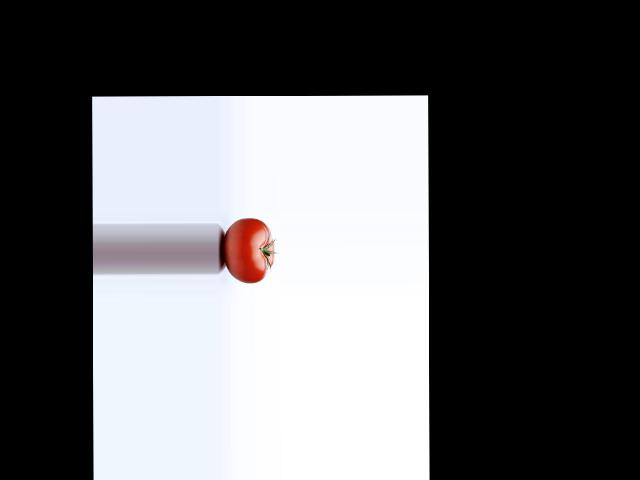tomato: (223, 218, 274, 283)
